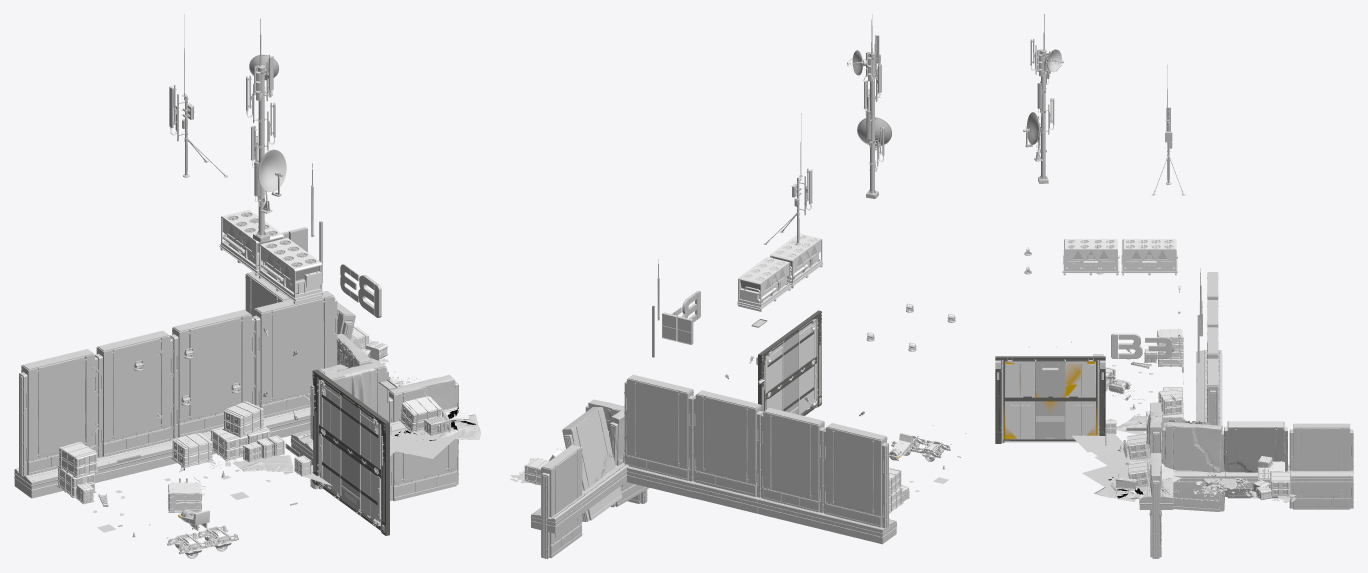
File: cell_171_116.fbx
The picture shows the model from 3 angles, left to right: view 1: azimuth 30°, elevation 25°; view 2: azimuth 150°, elevation 25°; view 3: azimuth 270°, elevation 25°; orthographic projection. The views are drawn at different scales.
Parts seen in each view (by area): view 1: SM_H_Fence_Metal_1024x768_01.mo.205, SM_H_Fence_Metal_1024x768_01.mo.203, SM_H_Fence_Metal_1024x768_01.mo.204, SM_H_Fence_Metal_1024x768_01.mo.202, SM_H_Fence_Metal_1024x768_01C.mo.014, SM_H_Customiz_FoldDoor_01B.mo.010, SM_H_Customiz_FoldDoor_01A.mo.006, SM_H_FutureTech_Electrical_BigConditioners_01.mo.037, SM_H_FutureTech_Furniture_BaseStation_01.mo.016, SM_H_Customiz_FoldDoor_01_Farme.mo.008, SM_H_FutureTech_Electrical_BigConditioners_01.mo.038, SM_H_Fence_Metal_1024x768_02.mo.178 (+18 smaller); view 2: SM_H_Fence_Metal_1024x768_01.mo.204, SM_H_Fence_Metal_1024x768_01.mo.205, SM_H_Fence_Metal_1024x768_01.mo.202, SM_H_Fence_Metal_1024x768_01.mo.203, SM_H_Fence_Metal_1024x768_01.mo.213, SM_H_Fence_Metal_1024x768_01D.mo.013, SM_H_Customiz_FoldDoor_01A.mo.006, SM_H_FutureTech_Electrical_BigConditioners_01.mo.038, SM_H_FutureTech_Furniture_BaseStation_01.mo.016, SM_H_Customiz_FoldDoor_01B.mo.010, SM_H_FutureTech_Electrical_BigConditioners_01.mo.037, SM_H_Customiz_FoldDoor_01_Farme.mo.008 (+10 smaller); view 3: SM_H_Fence_Metal_1024x768_01.mo.213, SM_H_Fence_Metal_1024x768_01C.mo.015, SM_H_Customiz_FoldDoor_01B.mo.010, SM_H_Customiz_FoldDoor_01A.mo.006, SM_H_Fence_Metal_1024x768_01D.mo.013, SM_H_FutureTech_Electrical_BigConditioners_01.mo.038, SM_H_FutureTech_Electrical_BigConditioners_01.mo.037, SM_H_Customiz_FoldDoor_01_Farme.mo.008, SM_H_FutureTech_Furniture_BaseStation_01.mo.016, SM_H_Fence_Metal_1024x768_01C.mo.014, SM_H_Fence_Metal_1024x768_02.mo.204, SM_H_Fence_Metal_1024x768_01.mo.204 (+16 smaller).
Boxes of the visible parts, x1=… form: SM_H_Fence_Metal_1024x768_01.mo.205: x1=170, y1=309, x2=254, y2=438; SM_H_Fence_Metal_1024x768_01.mo.203: x1=95, y1=330, x2=172, y2=457; SM_H_Fence_Metal_1024x768_01.mo.204: x1=252, y1=291, x2=337, y2=417; SM_H_Fence_Metal_1024x768_01.mo.202: x1=19, y1=349, x2=97, y2=475; SM_H_Fence_Metal_1024x768_01C.mo.014: x1=389, y1=374, x2=458, y2=501; SM_H_Customiz_FoldDoor_01B.mo.010: x1=316, y1=429, x2=380, y2=530; SM_H_Customiz_FoldDoor_01A.mo.006: x1=318, y1=378, x2=380, y2=473; SM_H_FutureTech_Electrical_BigConditioners_01.mo.037: x1=258, y1=238, x2=323, y2=303; SM_H_FutureTech_Furniture_BaseStation_01.mo.016: x1=246, y1=18, x2=275, y2=242; SM_H_Customiz_FoldDoor_01_Farme.mo.008: x1=312, y1=369, x2=391, y2=535; SM_H_FutureTech_Electrical_BigConditioners_01.mo.038: x1=219, y1=209, x2=283, y2=275; SM_H_Fence_Metal_1024x768_02.mo.178: x1=98, y1=439, x2=176, y2=480; SM_H_Fence_Metal_1024x768_01.mo.204: x1=624, y1=374, x2=695, y2=481; SM_H_Fence_Metal_1024x768_01.mo.205: x1=693, y1=390, x2=763, y2=497; SM_H_Fence_Metal_1024x768_01.mo.202: x1=824, y1=423, x2=889, y2=528; SM_H_Fence_Metal_1024x768_01.mo.203: x1=761, y1=407, x2=825, y2=512; SM_H_Fence_Metal_1024x768_01.mo.213: x1=541, y1=444, x2=582, y2=558; SM_H_Fence_Metal_1024x768_01D.mo.013: x1=562, y1=407, x2=622, y2=521; SM_H_Customiz_FoldDoor_01A.mo.006: x1=765, y1=318, x2=817, y2=397; SM_H_FutureTech_Electrical_BigConditioners_01.mo.038: x1=737, y1=257, x2=791, y2=311; SM_H_FutureTech_Furniture_BaseStation_01.mo.016: x1=863, y1=14, x2=884, y2=198; SM_H_Customiz_FoldDoor_01B.mo.010: x1=765, y1=360, x2=818, y2=415; SM_H_FutureTech_Electrical_BigConditioners_01.mo.037: x1=770, y1=233, x2=823, y2=288; SM_H_Customiz_FoldDoor_01_Farme.mo.008: x1=756, y1=310, x2=821, y2=411; SM_H_Fence_Metal_1024x768_01.mo.213: x1=1289, y1=423, x2=1353, y2=509; SM_H_Fence_Metal_1024x768_01C.mo.015: x1=1161, y1=421, x2=1224, y2=511; SM_H_Customiz_FoldDoor_01B.mo.010: x1=1003, y1=399, x2=1097, y2=442; SM_H_Customiz_FoldDoor_01A.mo.006: x1=1003, y1=360, x2=1097, y2=399; SM_H_Fence_Metal_1024x768_01D.mo.013: x1=1224, y1=421, x2=1287, y2=498; SM_H_FutureTech_Electrical_BigConditioners_01.mo.038: x1=1121, y1=239, x2=1177, y2=275; SM_H_FutureTech_Electrical_BigConditioners_01.mo.037: x1=1062, y1=239, x2=1119, y2=275; SM_H_Customiz_FoldDoor_01_Farme.mo.008: x1=995, y1=356, x2=1105, y2=443; SM_H_FutureTech_Furniture_BaseStation_01.mo.016: x1=1030, y1=14, x2=1054, y2=183; SM_H_Fence_Metal_1024x768_01C.mo.014: x1=1149, y1=453, x2=1161, y2=558; SM_H_Fence_Metal_1024x768_02.mo.204: x1=1289, y1=464, x2=1353, y2=488; SM_H_Fence_Metal_1024x768_01.mo.204: x1=1207, y1=358, x2=1218, y2=425.
Size of the model in its own units: 41.41 by 56.85 by 41.56.
